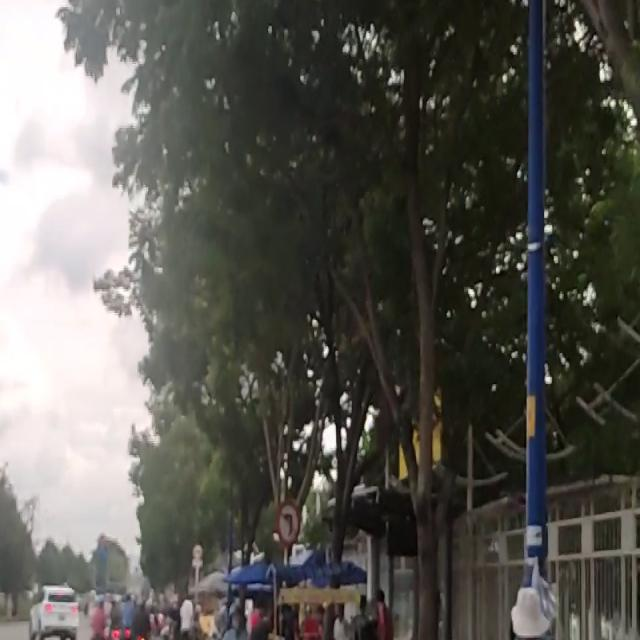Bien bao cam re trai: (274, 500, 302, 548)
